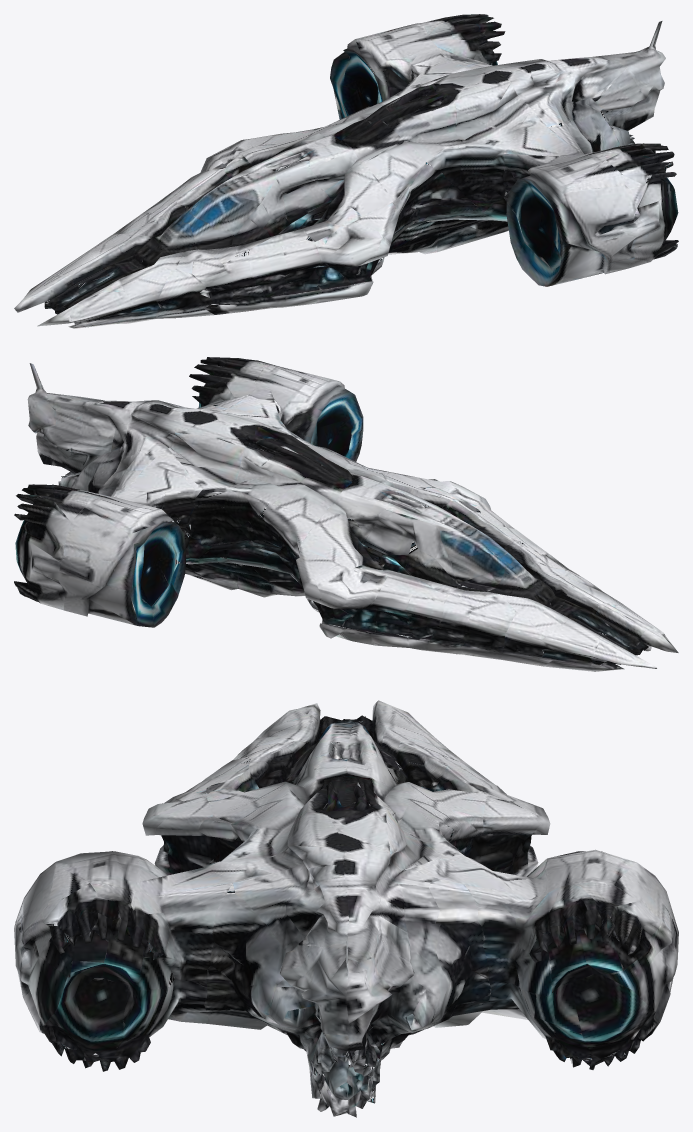
Rendered from orbital_base.glb.
The picture shows the model from 3 angles, top to bottom: view 1: azimuth 30°, elevation 25°; view 2: azimuth 150°, elevation 25°; view 3: azimuth 270°, elevation 25°; orthographic projection. The views are drawn at different scales.
Bounding box in the file's own units: 1.9 × 0.4636 × 1.24.
1 material, 1 textured.
